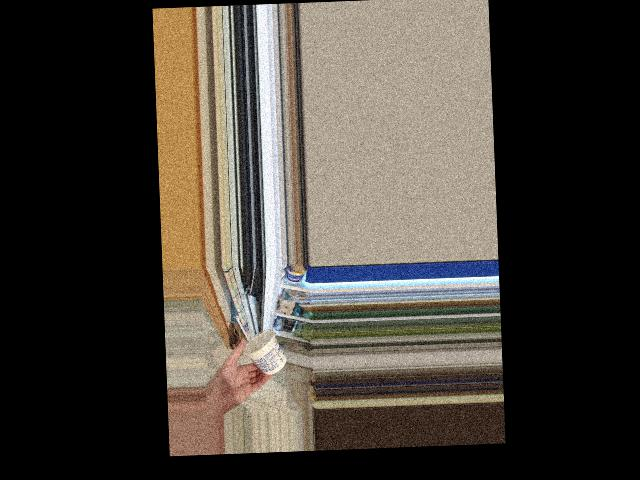cotage: (242, 327, 285, 368)
